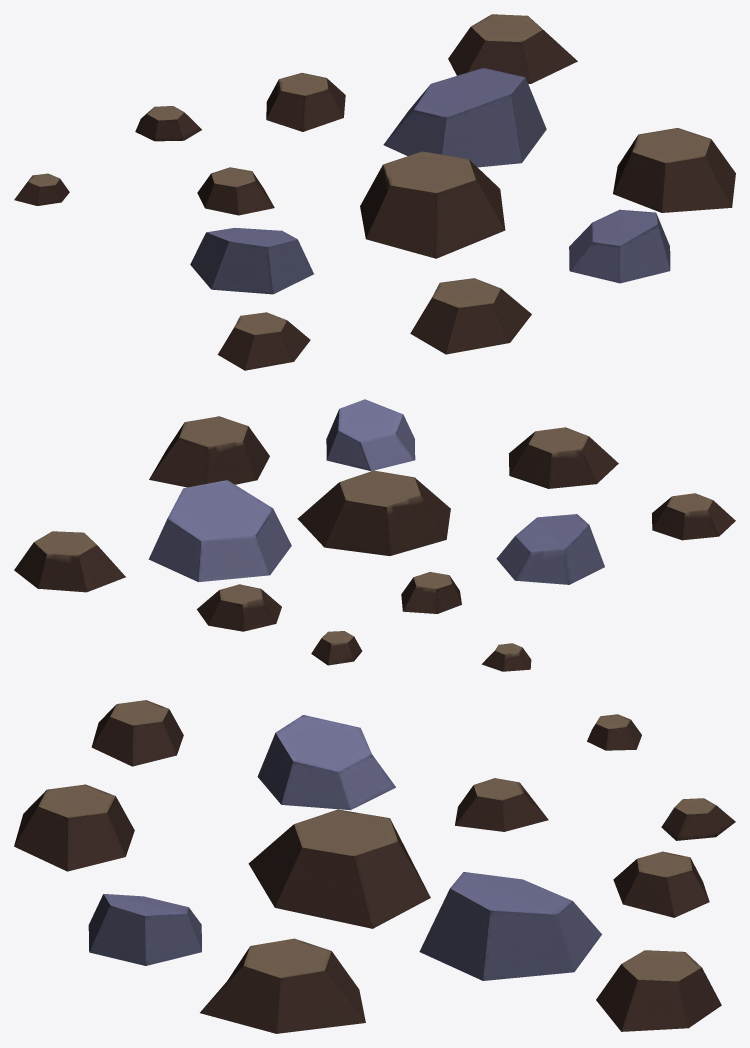
Rendered from tile_wood_4_ruin_lod0.fbx.
3 renders of one model, top to bottom at view 1: azimuth 30°, elevation 25°; view 2: azimuth 150°, elevation 25°; view 3: azimuth 270°, elevation 25°, orthographic. The views are drawn at different scales.
Visible parts, largest first — view 1: wood_4_ruin_lod0; view 2: wood_4_ruin_lod0; view 3: wood_4_ruin_lod0.
Part boxes in pixels (box(x1,y1,x2,y2)): wood_4_ruin_lod0: box(14, 14, 735, 370); wood_4_ruin_lod0: box(14, 399, 735, 671); wood_4_ruin_lod0: box(14, 700, 735, 1033).
Bounding box in the file's own units: 0.0504 × 0.00494 × 0.049.
